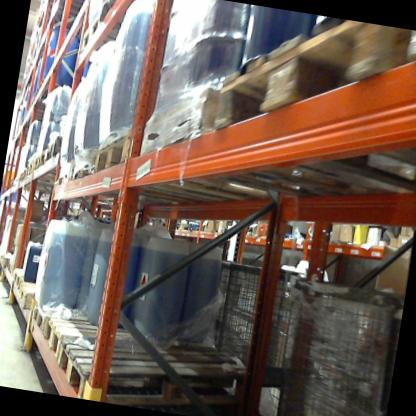pallet: (192, 1, 416, 225), (130, 81, 391, 225), (89, 119, 281, 240), (51, 326, 250, 416), (40, 314, 177, 387), (27, 297, 108, 355), (75, 1, 141, 69), (95, 0, 169, 33), (68, 140, 106, 196), (50, 170, 98, 205), (9, 266, 49, 296), (15, 168, 56, 196), (14, 278, 43, 313), (48, 133, 68, 164), (38, 143, 53, 168), (24, 156, 36, 178), (33, 151, 43, 172)
stillage: (261, 265, 404, 416), (185, 243, 305, 393)
